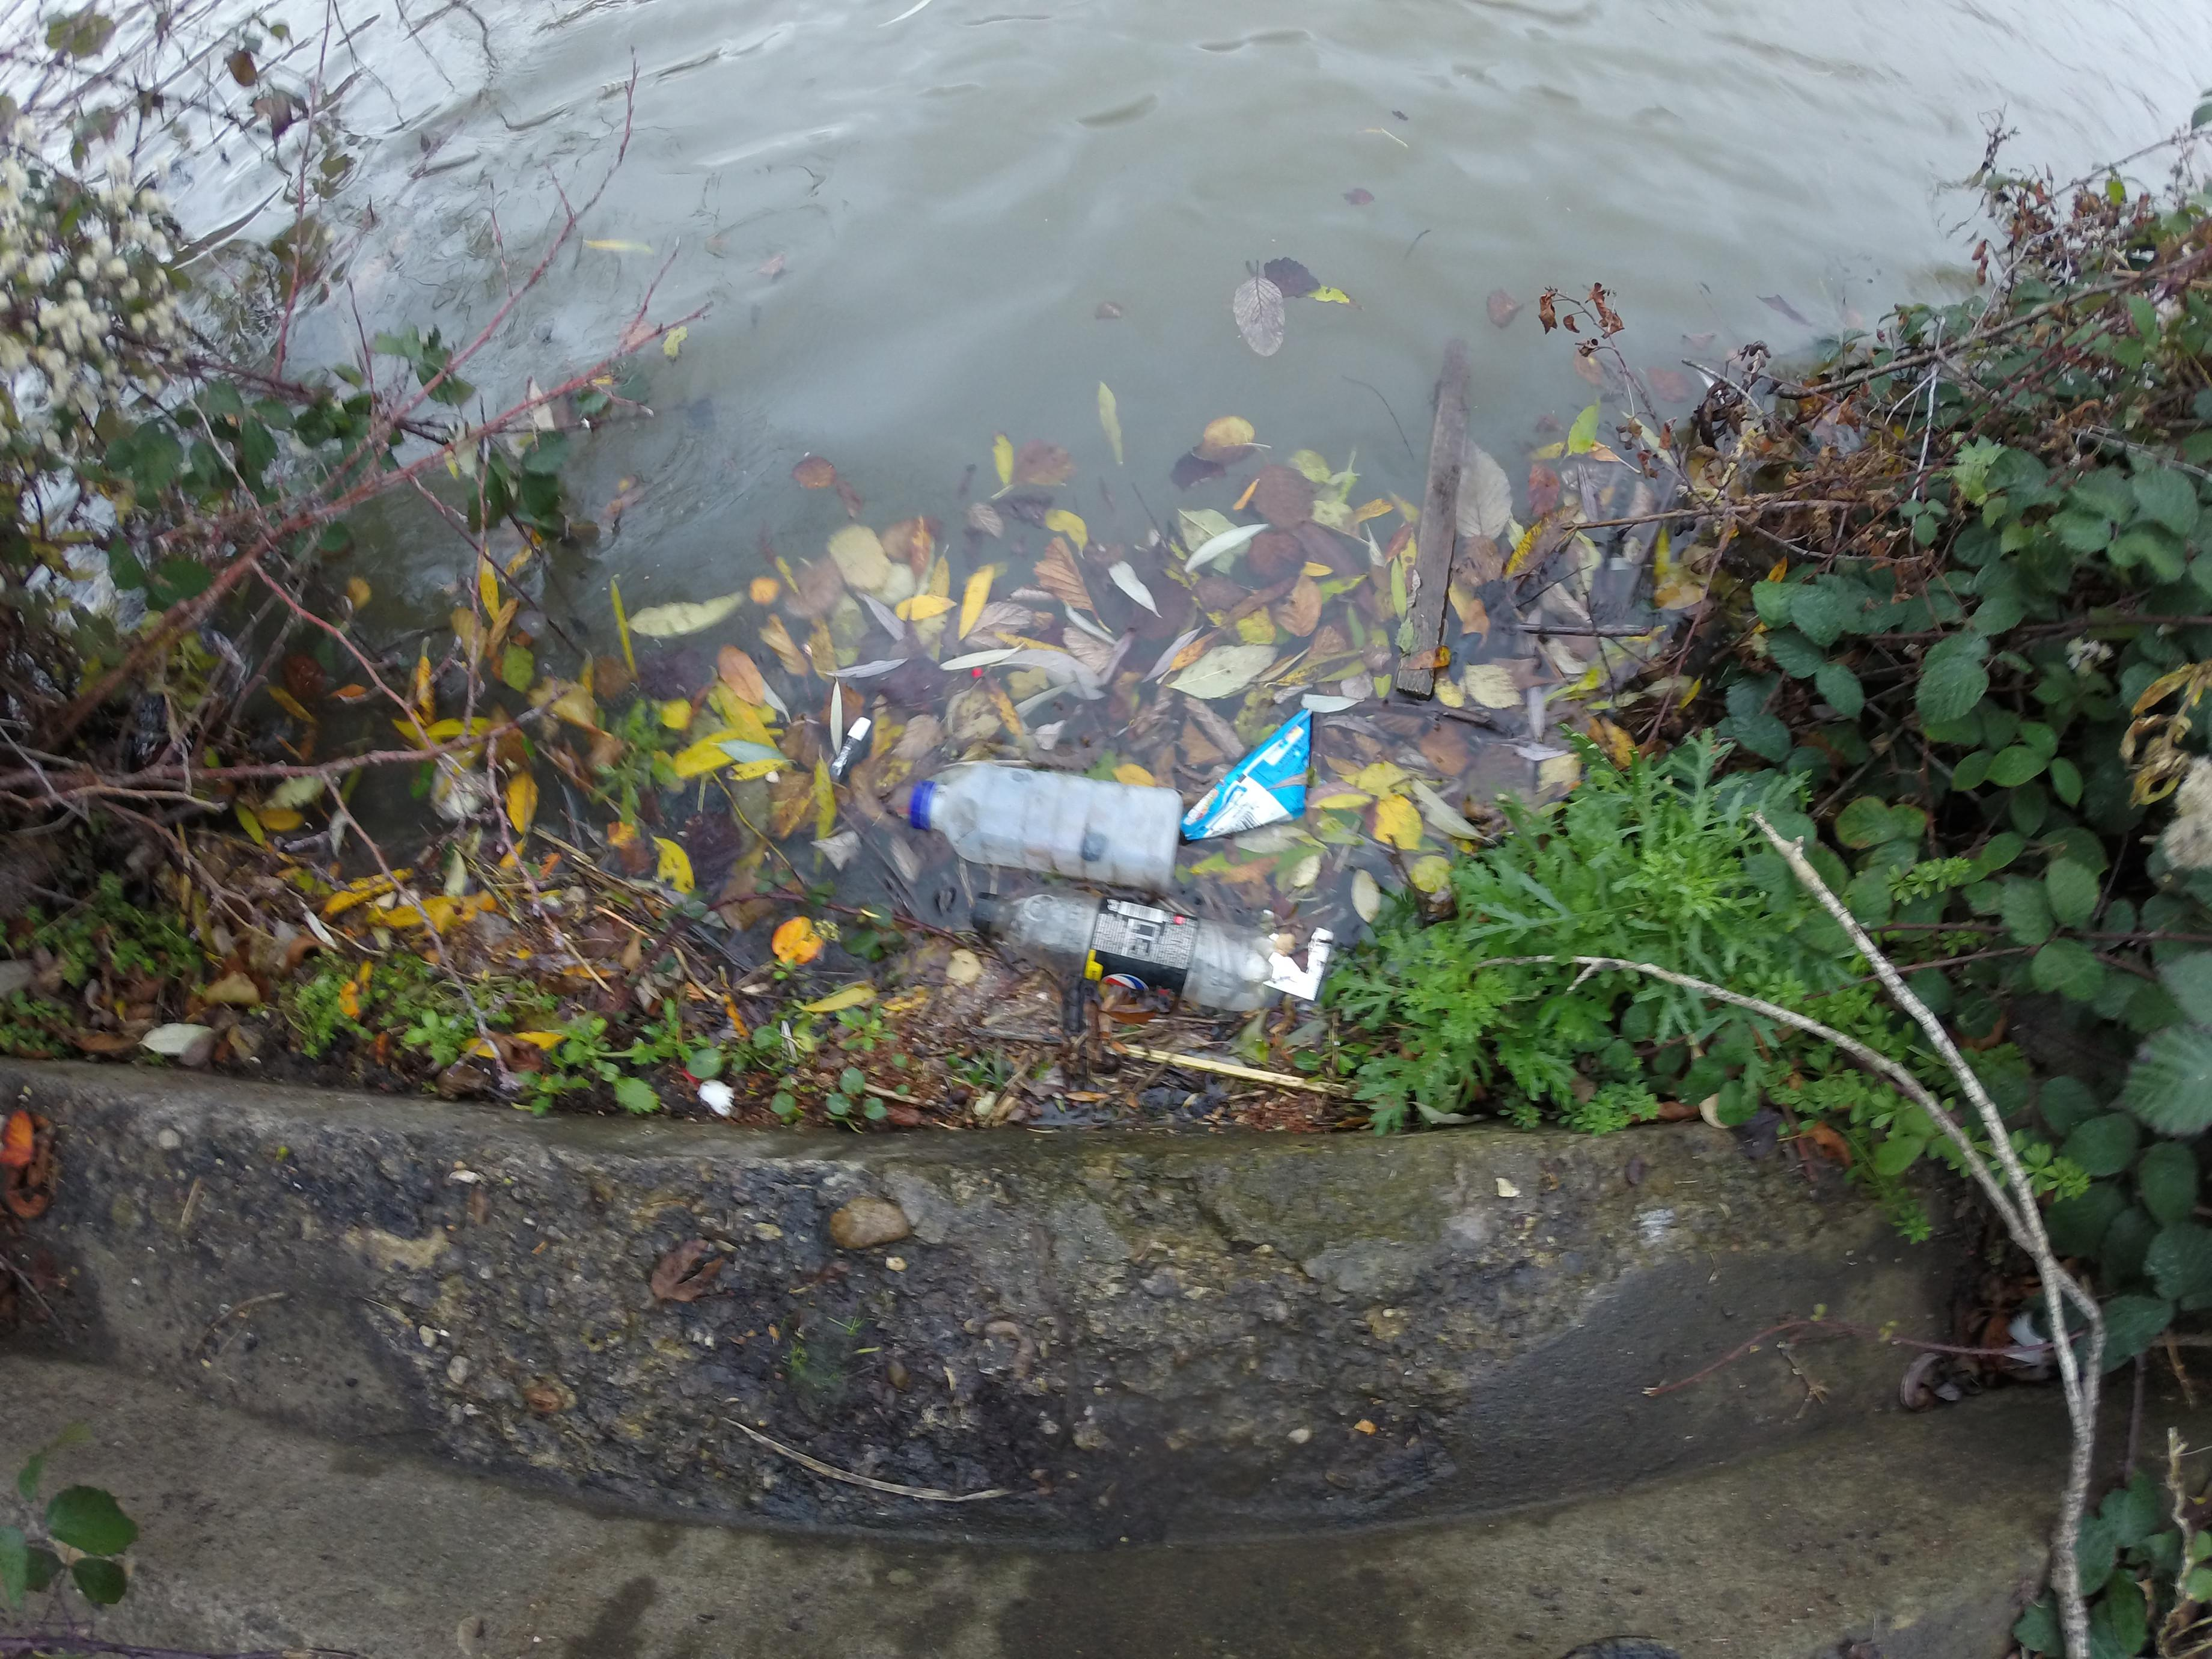Trash: (965, 889, 1264, 1009), (902, 767, 1181, 892), (1184, 704, 1310, 845)
